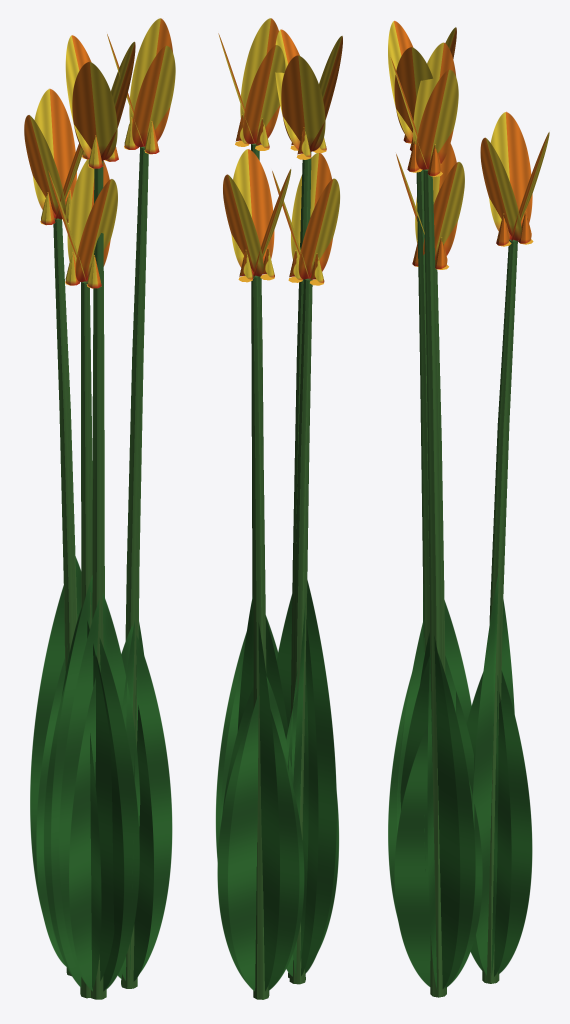
File: heliconia_bloom_v02.glb
3 renders of one model, left to right at view 1: azimuth 30°, elevation 25°; view 2: azimuth 150°, elevation 25°; view 3: azimuth 270°, elevation 25°, orthographic. The views are drawn at different scales.
Visible parts, largest first — view 1: heliconia_bloom_v02; view 2: heliconia_bloom_v02; view 3: heliconia_bloom_v02.
Boxes of the visible parts, <box> form: heliconia_bloom_v02: <box>24,18,175,999</box>; heliconia_bloom_v02: <box>215,18,342,999</box>; heliconia_bloom_v02: <box>388,20,549,997</box>.
Bounding box in the file's own units: 0.2323 × 1.61 × 0.2744.
Materials: 3 (3 with a texture image).
